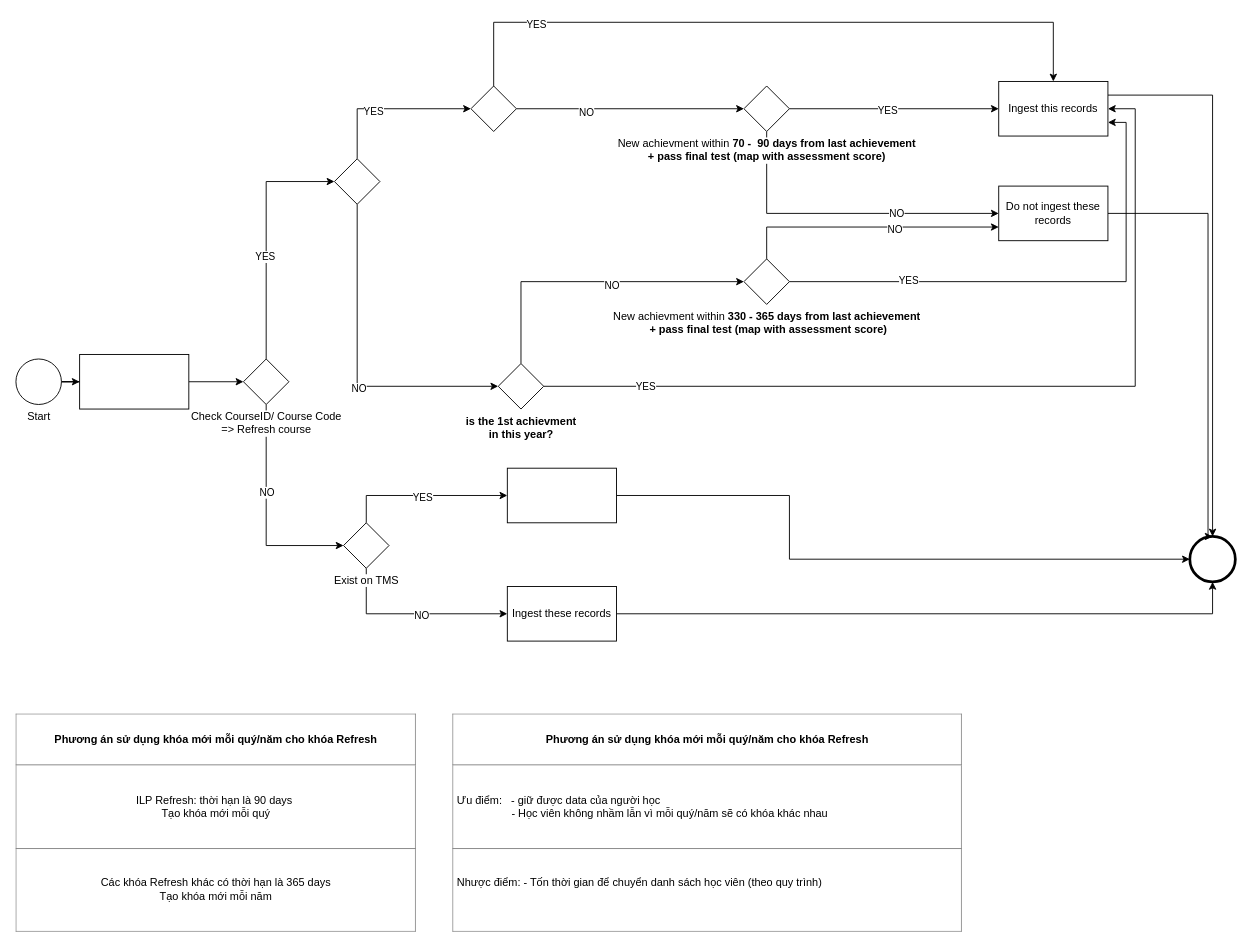
Image size: 1251x948. Some labels were removed from this diagram. The centre of each missing label's shape, as x and y in pixels:
"Call API get Achievment" goes at (134,381).
"Check ILP" goes at (357,181).
"Do not ingest this records" goes at (561,495).
"End" goes at (1212,559).
"is the 1st achievment in this quater?" goes at (493,108).
